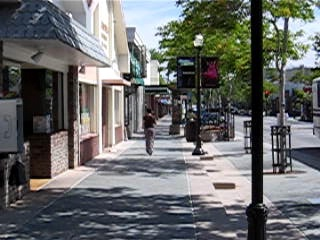person: (142, 106, 157, 157), (141, 106, 156, 157), (143, 106, 158, 157), (142, 105, 157, 156), (142, 107, 157, 158)
target_negative: (211, 69, 319, 238), (260, 50, 308, 114), (309, 48, 315, 229), (267, 135, 284, 184), (299, 111, 317, 122), (222, 52, 231, 69)
